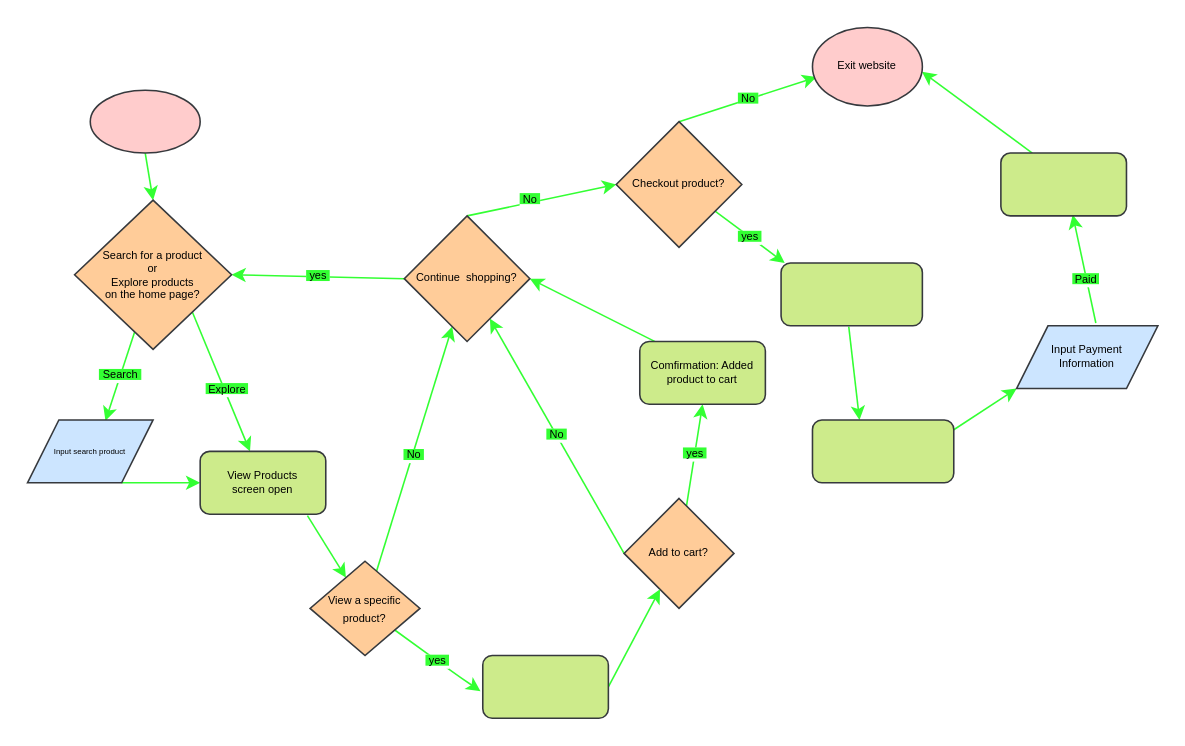
Image size: 1185x746. Some labels were removed from this diagram. The box of each missing label's shape, as (x1, y1, x2, y2) in pixels:
Enter Website: (89, 89, 200, 153)
Order Confirmation Screen open and email confirmation sent: (999, 152, 1126, 216)
Payment Screen open: (811, 418, 954, 483)
Selected product screen open: (481, 654, 608, 718)
Shopping Cart Screen open: (780, 261, 922, 326)
